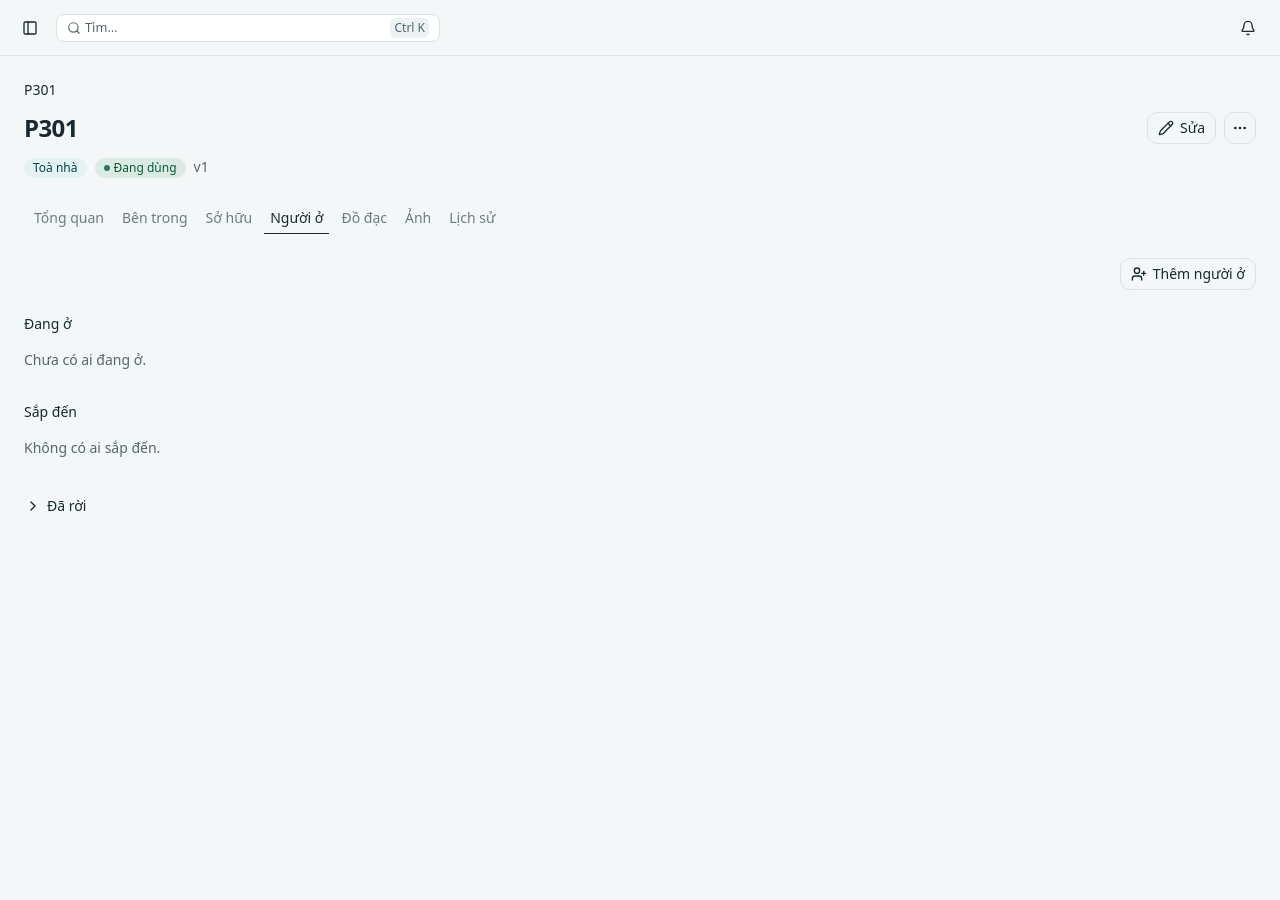
Test: warnsWhenThePeakIsFull
Click the button "Thêm người ở": click(1188, 274) [1120, 258, 1256, 290]
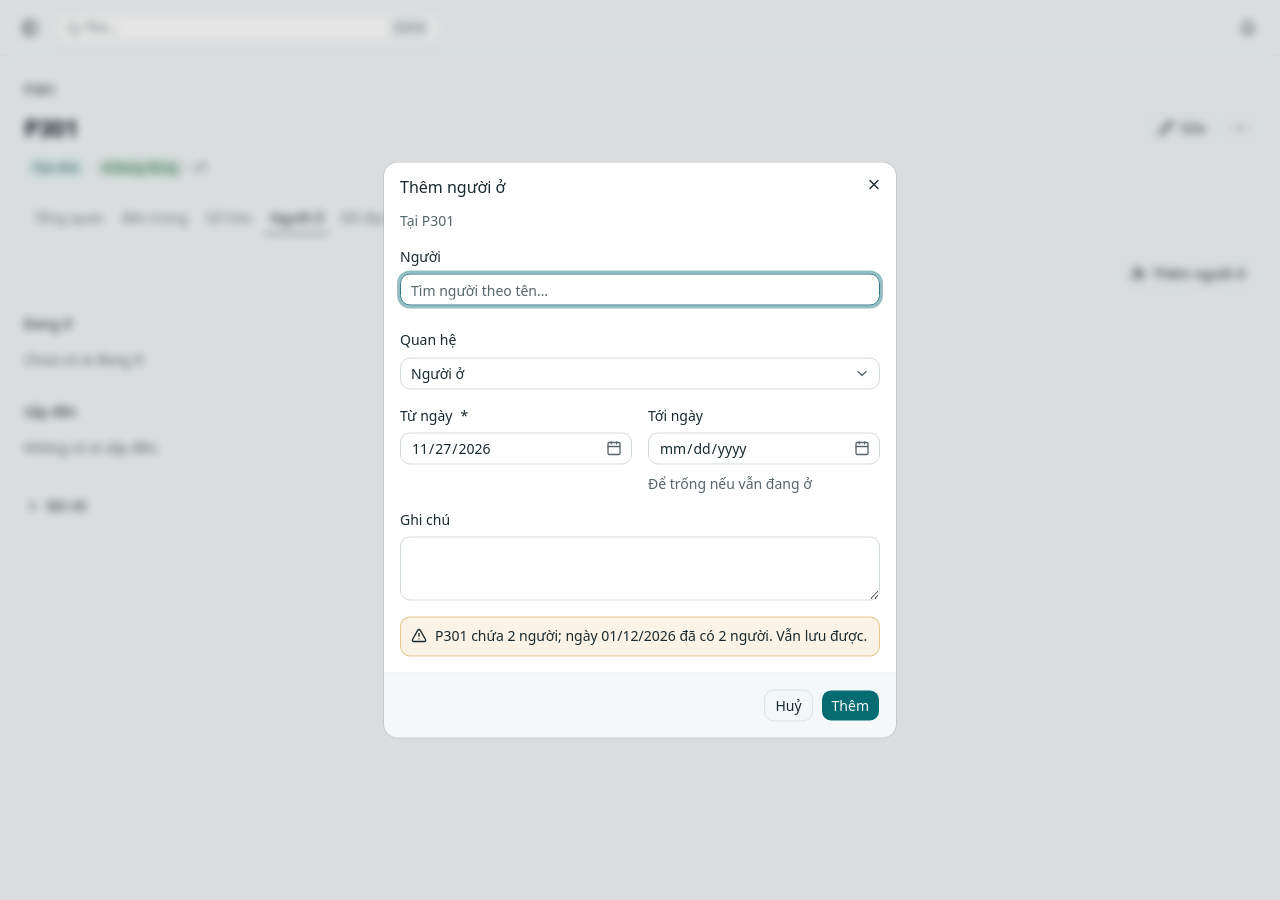
Check: the text "P301 chứa 2 người; ngày 01/12/2026 đã có 2 người. Vẫn lưu được." is shown, box [400, 616, 880, 656]
Check: the button "Thêm" is enabled, box [821, 690, 880, 722]
